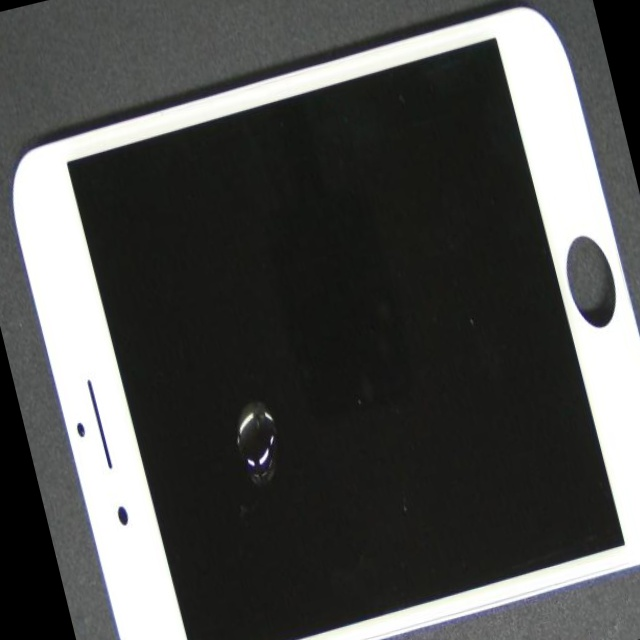oil: (123, 187, 447, 640)
